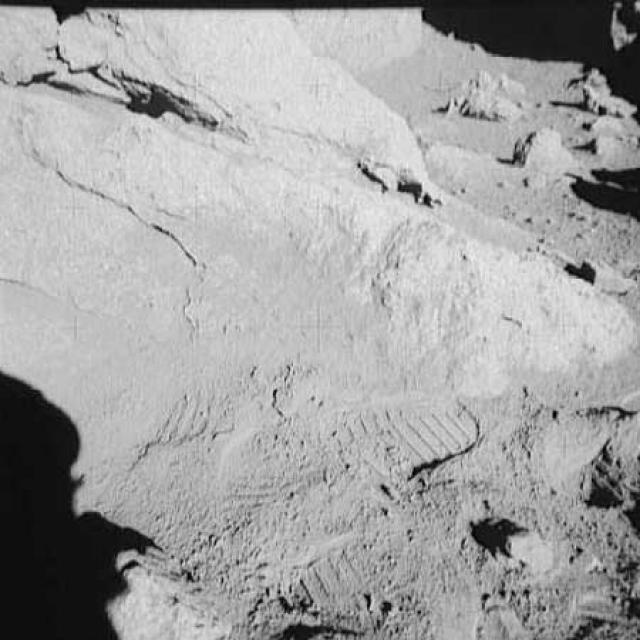rock: (452, 71, 536, 123), (576, 63, 639, 118), (510, 124, 574, 168), (582, 115, 638, 159)
